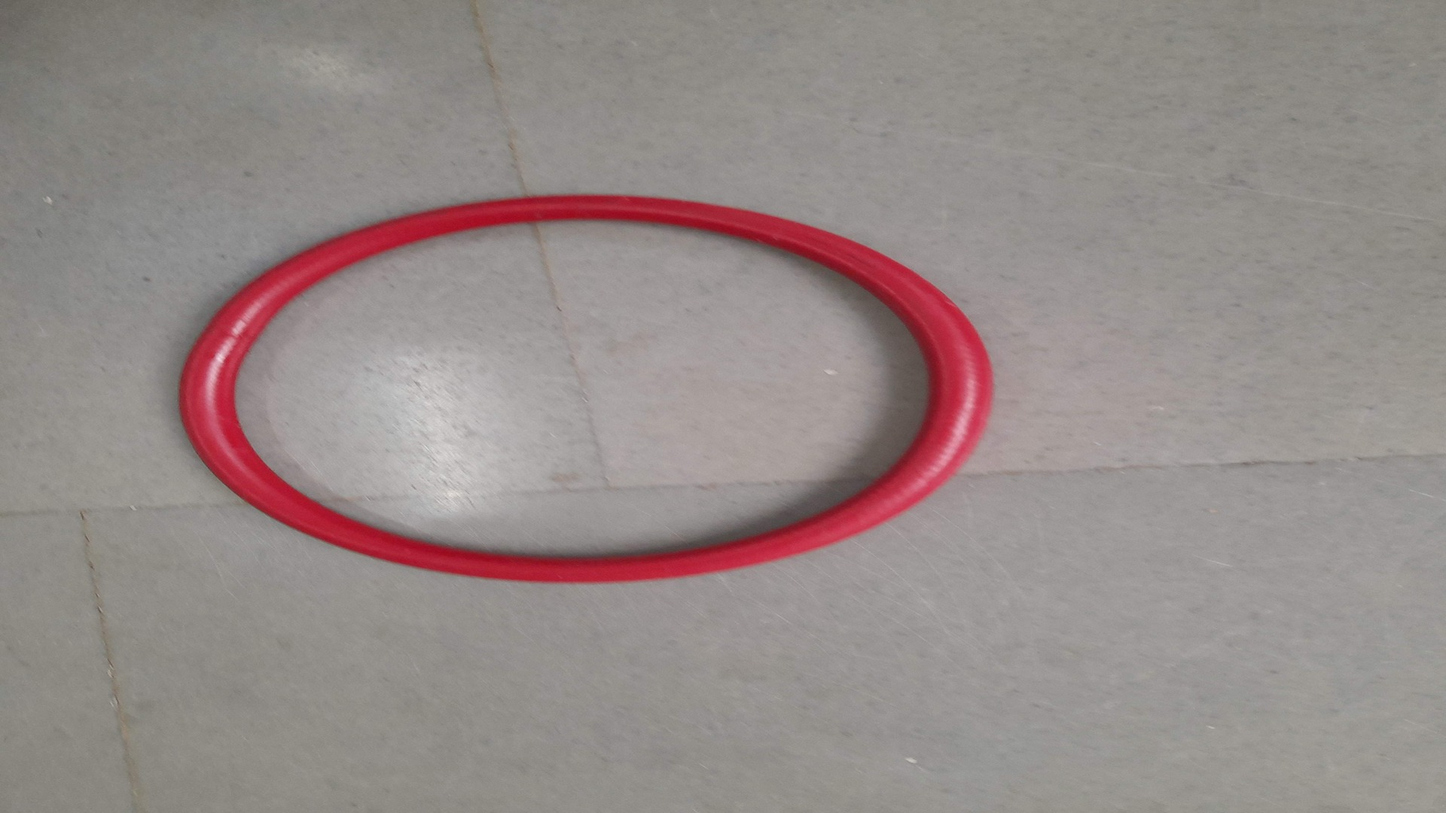Red ring: (177, 193, 994, 576)
